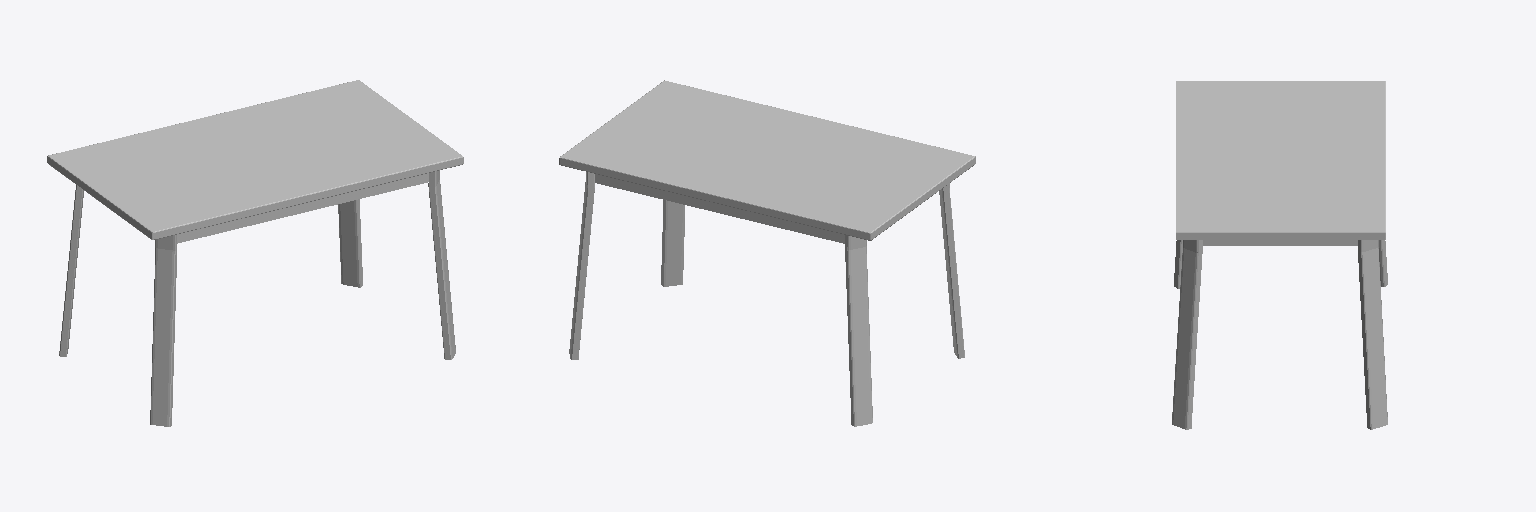
File: table.obj
The picture shows the model from 3 angles: view 1: azimuth 30°, elevation 25°; view 2: azimuth 150°, elevation 25°; view 3: azimuth 270°, elevation 25°; orthographic projection.
Visible parts, largest first — view 1: Top, Leg:4, Under, Leg:2, Leg:1, Leg:3; view 2: Top, Leg:3, Under, Leg:1, Leg:2, Leg:4; view 3: Top, Leg:1, Leg:2, Under.
Boxes of the visible parts, x1,y1,x2,y2 form: Top: [47, 80, 463, 239]; Leg:4: [150, 235, 176, 426]; Under: [177, 173, 428, 243]; Leg:2: [428, 170, 455, 359]; Leg:1: [338, 199, 362, 287]; Leg:3: [59, 185, 83, 356]; Top: [559, 80, 975, 240]; Leg:3: [845, 235, 872, 426]; Under: [595, 174, 844, 243]; Leg:1: [569, 172, 594, 359]; Leg:2: [661, 200, 684, 286]; Leg:4: [939, 183, 964, 358]; Top: [1176, 81, 1385, 239]; Leg:1: [1358, 240, 1387, 429]; Leg:2: [1172, 240, 1202, 429]; Under: [1203, 240, 1357, 245].
Bounding box in the file's own units: 396 × 242 × 238.